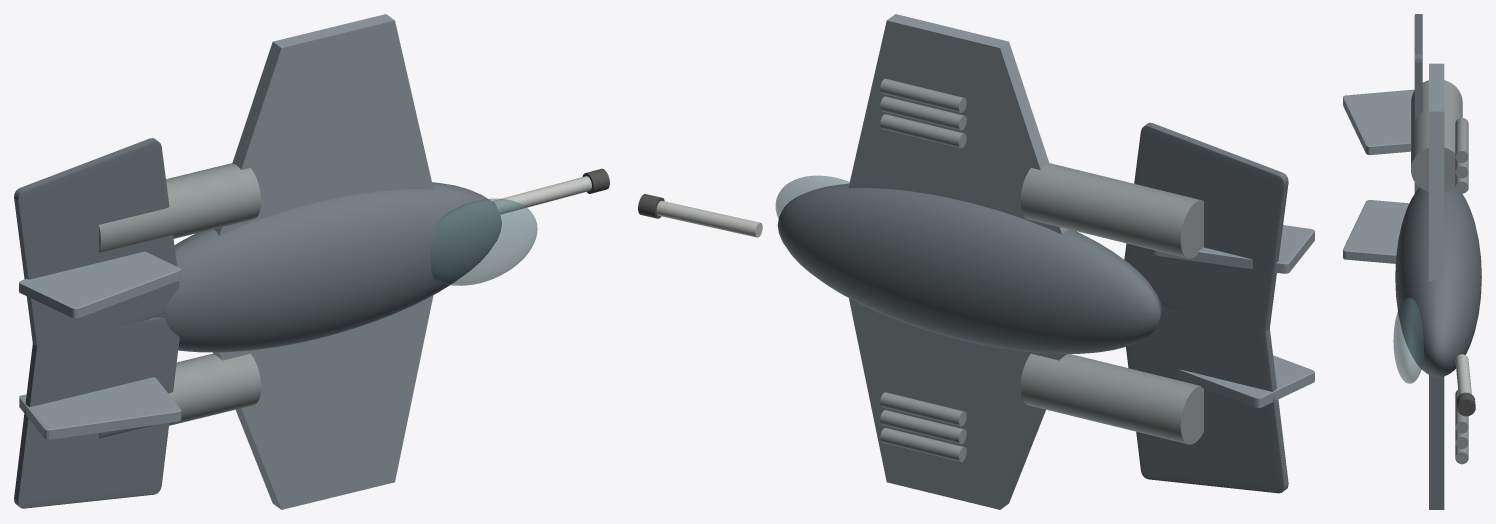
The model's file is s-u24-specter-light-gunship-lod1.glb.
3 renders of one model, left to right at view 1: azimuth 30°, elevation 25°; view 2: azimuth 150°, elevation 25°; view 3: azimuth 270°, elevation 25°, orthographic. The views are drawn at different scales.
Parts seen in each view (by area): view 1: combat_main_wing, combat_fuselage, combat_tailplane_-1, combat_tailplane_1, combat_engine_1, combat_canopy, combat_fin_-1, combat_fin_1, combat_engine_0, combat_gun_barrel_0; view 2: combat_main_wing, combat_fuselage, combat_tailplane_1, combat_tailplane_-1, combat_engine_1, combat_engine_0, combat_fin_-1, combat_fin_1, combat_gun_barrel_0, combat_-1_tube_3, combat_1_tube_3, combat_1_tube_2 (+4 smaller); view 3: combat_fuselage, combat_main_wing, combat_fin_1, combat_engine_1, combat_fin_-1, combat_canopy, combat_tailplane_1, combat_1_tube_3, combat_gun_barrel_0, combat_gun_muzzle_0, combat_-1_tube_3, combat_-1_tube_2 (+3 smaller).
Part boxes in pixels (x1=…): combat_main_wing: x1=213, y1=14, x2=433, y2=509; combat_fuselage: x1=154, y1=182, x2=501, y2=352; combat_tailplane_-1: x1=14, y1=317, x2=179, y2=508; combat_tailplane_1: x1=14, y1=138, x2=179, y2=346; combat_engine_1: x1=99, y1=163, x2=261, y2=252; combat_canopy: x1=430, y1=198, x2=537, y2=285; combat_fin_-1: x1=19, y1=377, x2=181, y2=439; combat_fin_1: x1=19, y1=251, x2=181, y2=318; combat_engine_0: x1=99, y1=353, x2=261, y2=438; combat_gun_barrel_0: x1=492, y1=176, x2=591, y2=214; combat_main_wing: x1=848, y1=14, x2=1068, y2=509; combat_fuselage: x1=777, y1=183, x2=1161, y2=353; combat_tailplane_1: x1=1124, y1=122, x2=1288, y2=335; combat_tailplane_-1: x1=1126, y1=306, x2=1288, y2=493; combat_engine_1: x1=1020, y1=163, x2=1203, y2=258; combat_engine_0: x1=1020, y1=353, x2=1203, y2=444; combat_fin_-1: x1=1178, y1=355, x2=1314, y2=407; combat_fin_1: x1=1152, y1=225, x2=1314, y2=273; combat_gun_barrel_0: x1=656, y1=200, x2=762, y2=237; combat_-1_tube_3: x1=880, y1=392, x2=966, y2=426; combat_1_tube_3: x1=880, y1=78, x2=966, y2=112; combat_1_tube_2: x1=880, y1=96, x2=966, y2=130; combat_fuselage: x1=1395, y1=186, x2=1481, y2=377; combat_main_wing: x1=1429, y1=63, x2=1444, y2=509; combat_fin_1: x1=1343, y1=89, x2=1414, y2=155; combat_engine_1: x1=1411, y1=80, x2=1462, y2=191; combat_fin_-1: x1=1343, y1=200, x2=1409, y2=263; combat_canopy: x1=1393, y1=298, x2=1423, y2=383; combat_tailplane_1: x1=1414, y1=14, x2=1422, y2=193; combat_1_tube_3: x1=1455, y1=118, x2=1468, y2=162; combat_gun_barrel_0: x1=1455, y1=354, x2=1471, y2=395; combat_gun_muzzle_0: x1=1456, y1=392, x2=1475, y2=416; combat_-1_tube_3: x1=1455, y1=390, x2=1468, y2=433; combat_-1_tube_2: x1=1455, y1=429, x2=1468, y2=448.
Size of what is drawn, in the model's own units: 12.12 by 8.68 by 2.74.
